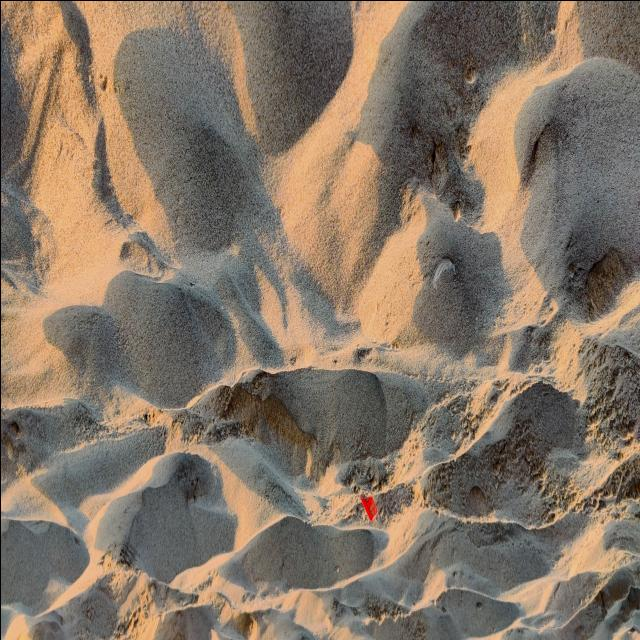Other plastic bottle: (358, 496, 377, 521)
Rope - strings: (429, 255, 453, 284)
